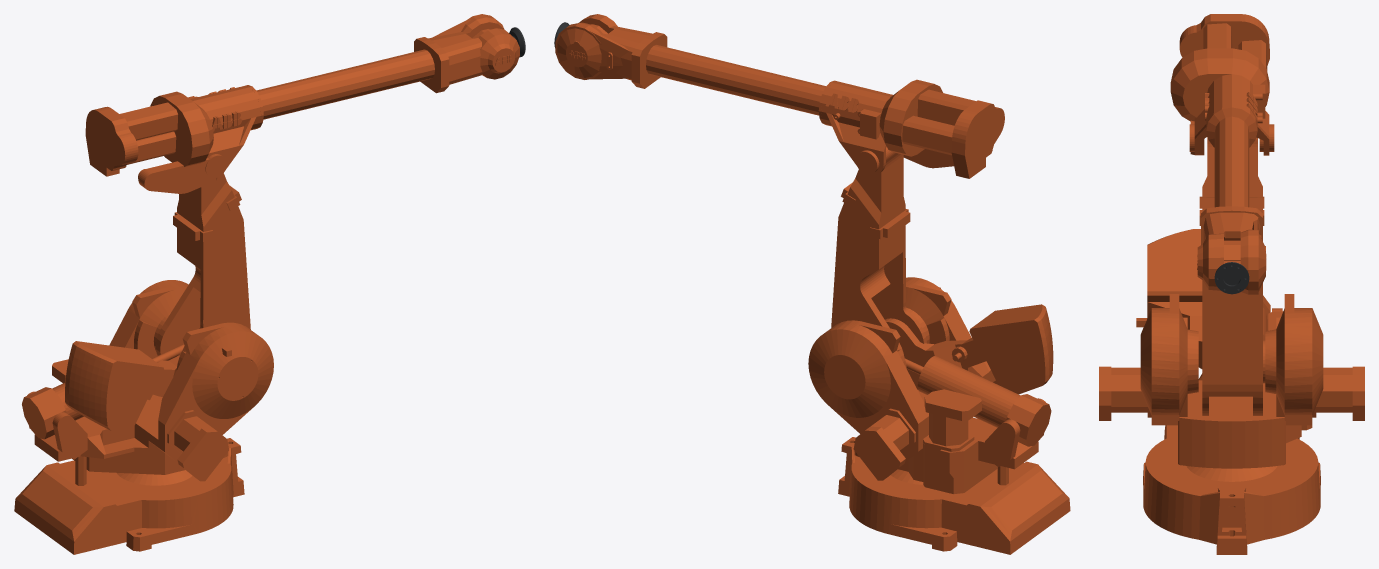
File: abb_irb4400l_30_243.dae
3 renders of one model, left to right at view 1: azimuth 30°, elevation 25°; view 2: azimuth 150°, elevation 25°; view 3: azimuth 270°, elevation 25°, orthographic. The views are drawn at different scales.
Visible parts, largest first — view 1: link_1, base_link, link_3, link_4, link_2; view 2: link_1, base_link, link_3, link_4, link_2; view 3: link_1, base_link, link_3, link_2, link_4, link_6, link_5.
Boxes of the visible parts, x1,y1,x2,y2 form: link_1: (22, 280, 273, 485); base_link: (14, 438, 244, 554); link_3: (85, 85, 261, 193); link_4: (246, 14, 519, 129); link_2: (156, 173, 250, 360); link_1: (808, 277, 1053, 494); base_link: (838, 437, 1070, 554); link_3: (821, 79, 1004, 178); link_4: (555, 14, 836, 125); link_2: (831, 147, 926, 354); link_1: (1099, 229, 1364, 468); base_link: (1143, 425, 1320, 554); link_3: (1170, 14, 1274, 155); link_2: (1199, 137, 1265, 415); link_4: (1197, 106, 1266, 294); link_6: (1214, 262, 1249, 294); link_5: (1224, 240, 1240, 263).
Bounding box in the file's own units: 2.29 × 0.9586 × 1.86.
